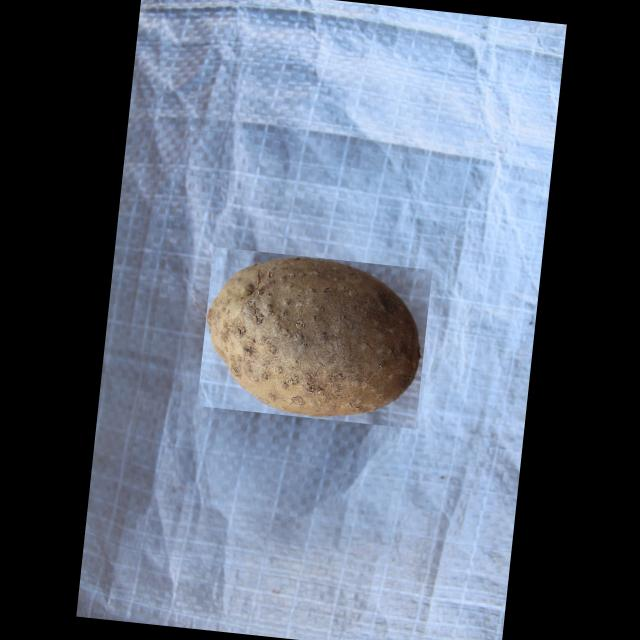Diseased-fungal potato: (195, 246, 431, 428)
